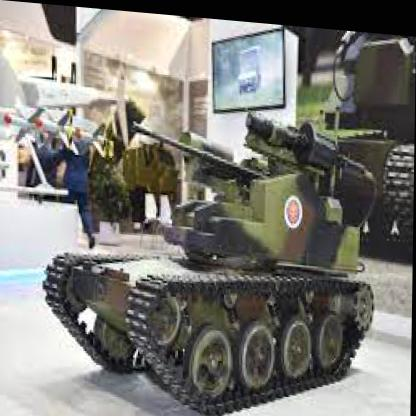UGV: (43, 93, 378, 415)
